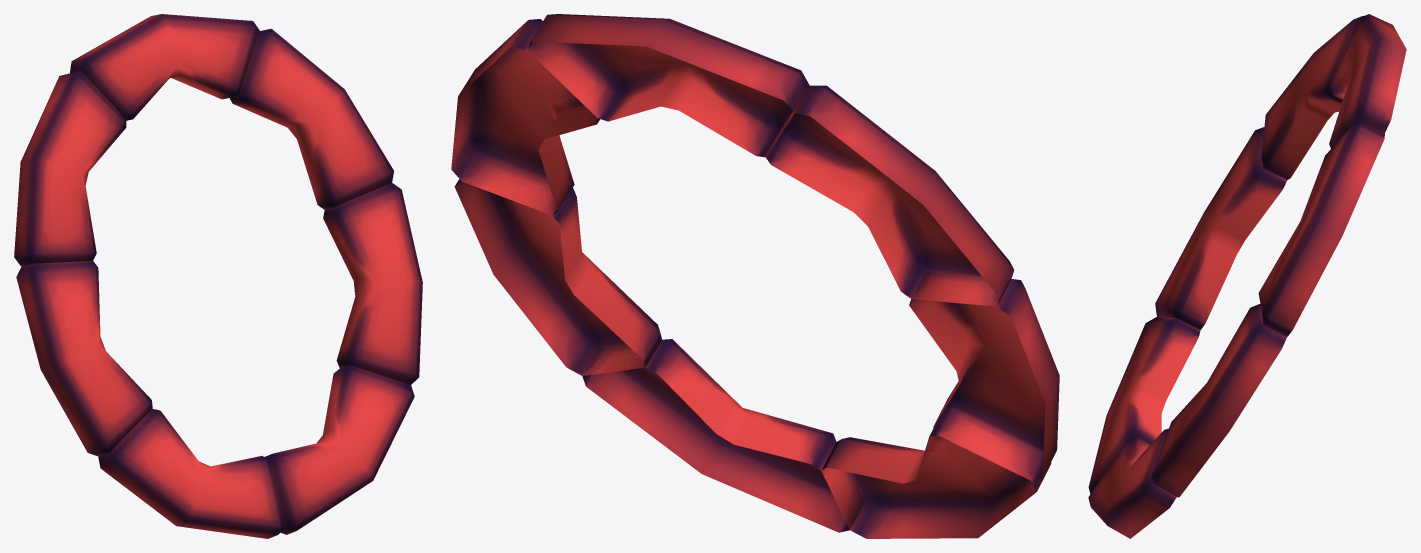
The model's file is PiramidaHealthbar.fbx.
The picture shows the model from 3 angles, left to right: view 1: azimuth 30°, elevation 25°; view 2: azimuth 150°, elevation 25°; view 3: azimuth 270°, elevation 25°; orthographic projection. The views are drawn at different scales.
Parts seen in each view (by area): view 1: oko health.013, oko health.010, oko health.014, oko health.009, oko health.012, oko health.011, oko health.008; view 2: oko health.008, oko health.014, oko health.011, oko health.010, oko health.012, oko health.013, oko health.009; view 3: oko health.009, oko health.013, oko health.010, oko health.012, oko health.014, oko health.008, oko health.011.
Part boxes in pixels (bbox=[...]): oko health.013: bbox=[16, 261, 152, 456]; oko health.010: bbox=[323, 183, 422, 384]; oko health.014: bbox=[14, 71, 126, 266]; oko health.009: bbox=[229, 28, 393, 209]; oko health.012: bbox=[98, 409, 285, 538]; oko health.011: bbox=[264, 365, 414, 534]; oko health.008: bbox=[70, 14, 259, 120]; oko health.008: bbox=[528, 14, 809, 157]; oko health.014: bbox=[765, 85, 1014, 306]; oko health.011: bbox=[582, 339, 864, 532]; oko health.010: bbox=[454, 155, 661, 375]; oko health.012: bbox=[821, 407, 1051, 538]; oko health.013: bbox=[909, 271, 1059, 480]; oko health.009: bbox=[451, 19, 600, 215]; oko health.009: bbox=[1258, 121, 1384, 336]; oko health.013: bbox=[1155, 127, 1286, 330]; oko health.010: bbox=[1152, 303, 1286, 497]; oko health.012: bbox=[1088, 317, 1200, 493]; oko health.014: bbox=[1261, 16, 1363, 180]; oko health.008: bbox=[1329, 14, 1406, 148]; oko health.011: bbox=[1088, 428, 1176, 538].
Size of the model in its own units: 185 by 204 by 123.
